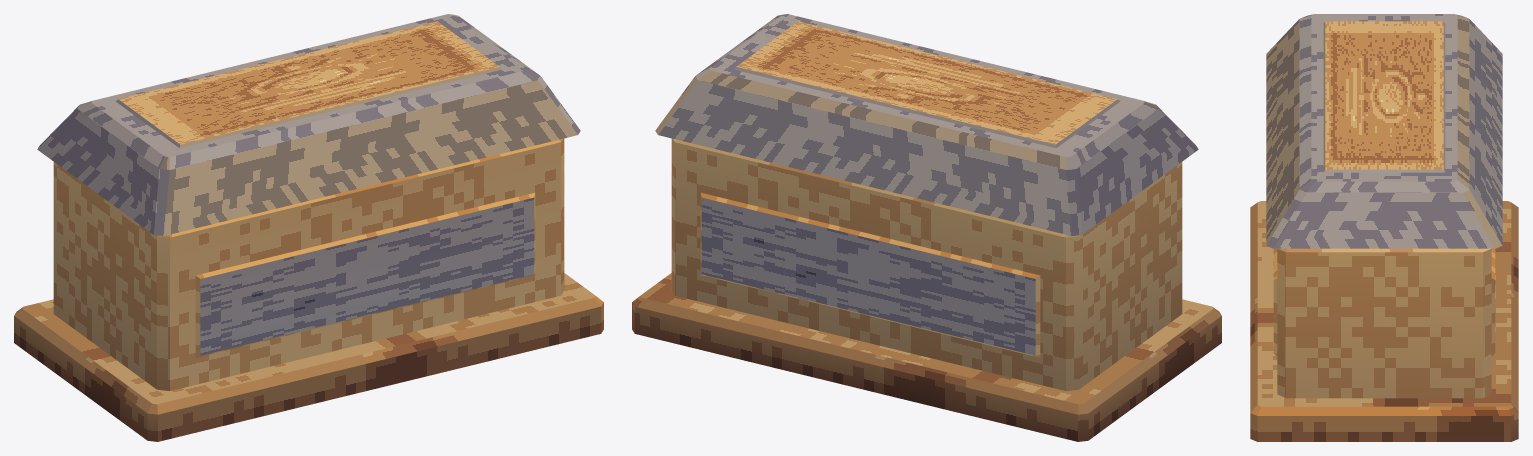
The model's file is relic.sarcophagus.glb.
3 renders of one model, left to right at view 1: azimuth 30°, elevation 25°; view 2: azimuth 150°, elevation 25°; view 3: azimuth 270°, elevation 25°, orthographic. The views are drawn at different scales.
Parts seen in each view (by area): view 1: kit_lid, kit_chest, kit_plinth, kit_glyph_bands; view 2: kit_lid, kit_chest, kit_plinth, kit_glyph_bands; view 3: kit_lid, kit_chest, kit_plinth, kit_glyph_bands.
Boxes of the visible parts, <box> form: kit_lid: <box>37,14,580,235</box>; kit_chest: <box>53,138,564,390</box>; kit_plinth: <box>14,273,603,441</box>; kit_glyph_bands: <box>195,192,535,357</box>; kit_lid: <box>655,14,1198,235</box>; kit_chest: <box>671,138,1182,390</box>; kit_plinth: <box>632,273,1221,441</box>; kit_glyph_bands: <box>700,192,1040,357</box>; kit_lid: <box>1266,14,1502,248</box>; kit_chest: <box>1277,248,1491,398</box>; kit_plinth: <box>1250,201,1518,441</box>; kit_glyph_bands: <box>1273,248,1495,356</box>.
Bounding box in the file's own units: 2.8 × 1.49 × 1.5.
5 materials, 5 textured.
